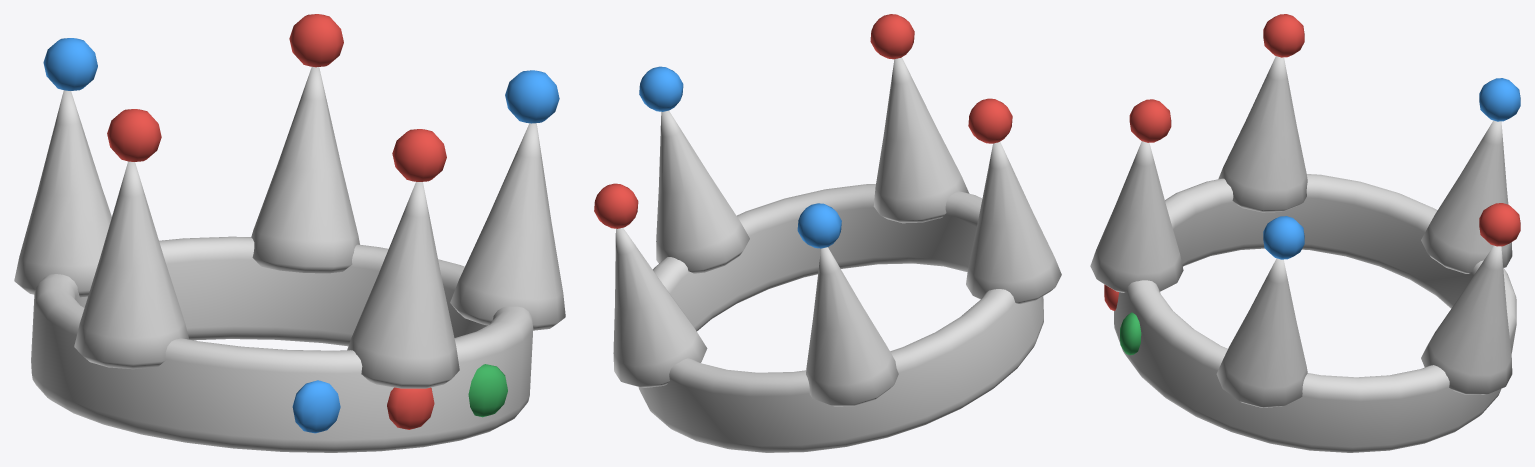
The model's file is royal_crown.glb.
3 views of the same model, side by side, from view 1: azimuth 30°, elevation 25°; view 2: azimuth 150°, elevation 25°; view 3: azimuth 270°, elevation 25° (orthographic). The views are drawn at different scales.
Visible parts, largest first — view 1: royal_crown; view 2: royal_crown; view 3: royal_crown.
Part boxes in pixels (left/top/right/bottom): royal_crown: left=14, top=14, right=565, bottom=452; royal_crown: left=594, top=14, right=1061, bottom=452; royal_crown: left=1090, top=14, right=1520, bottom=452.
Bounding box in the file's own units: 0.8186 × 0.6042 × 0.7833.
